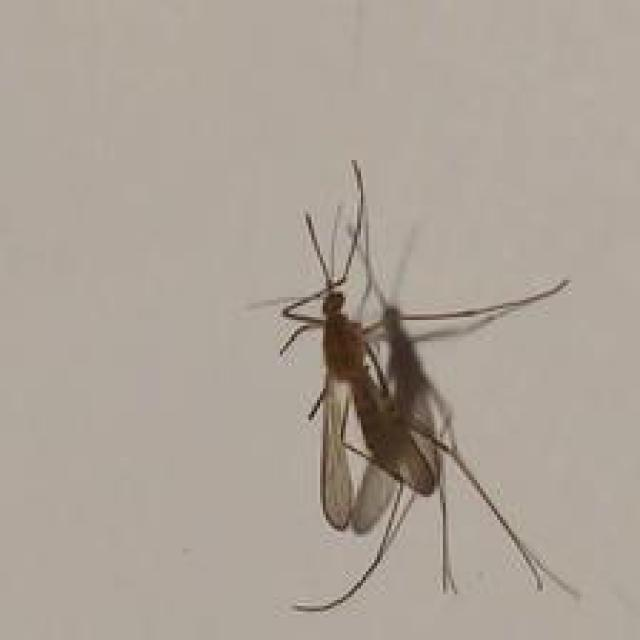Culex: (247, 157, 582, 614)
